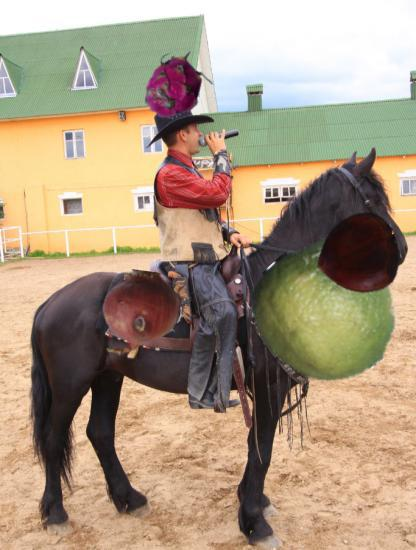Chestnut: (315, 214, 399, 298)
Limes: (255, 239, 400, 384)
Onion: (99, 271, 186, 358)
Pitahaya: (139, 50, 211, 122)
